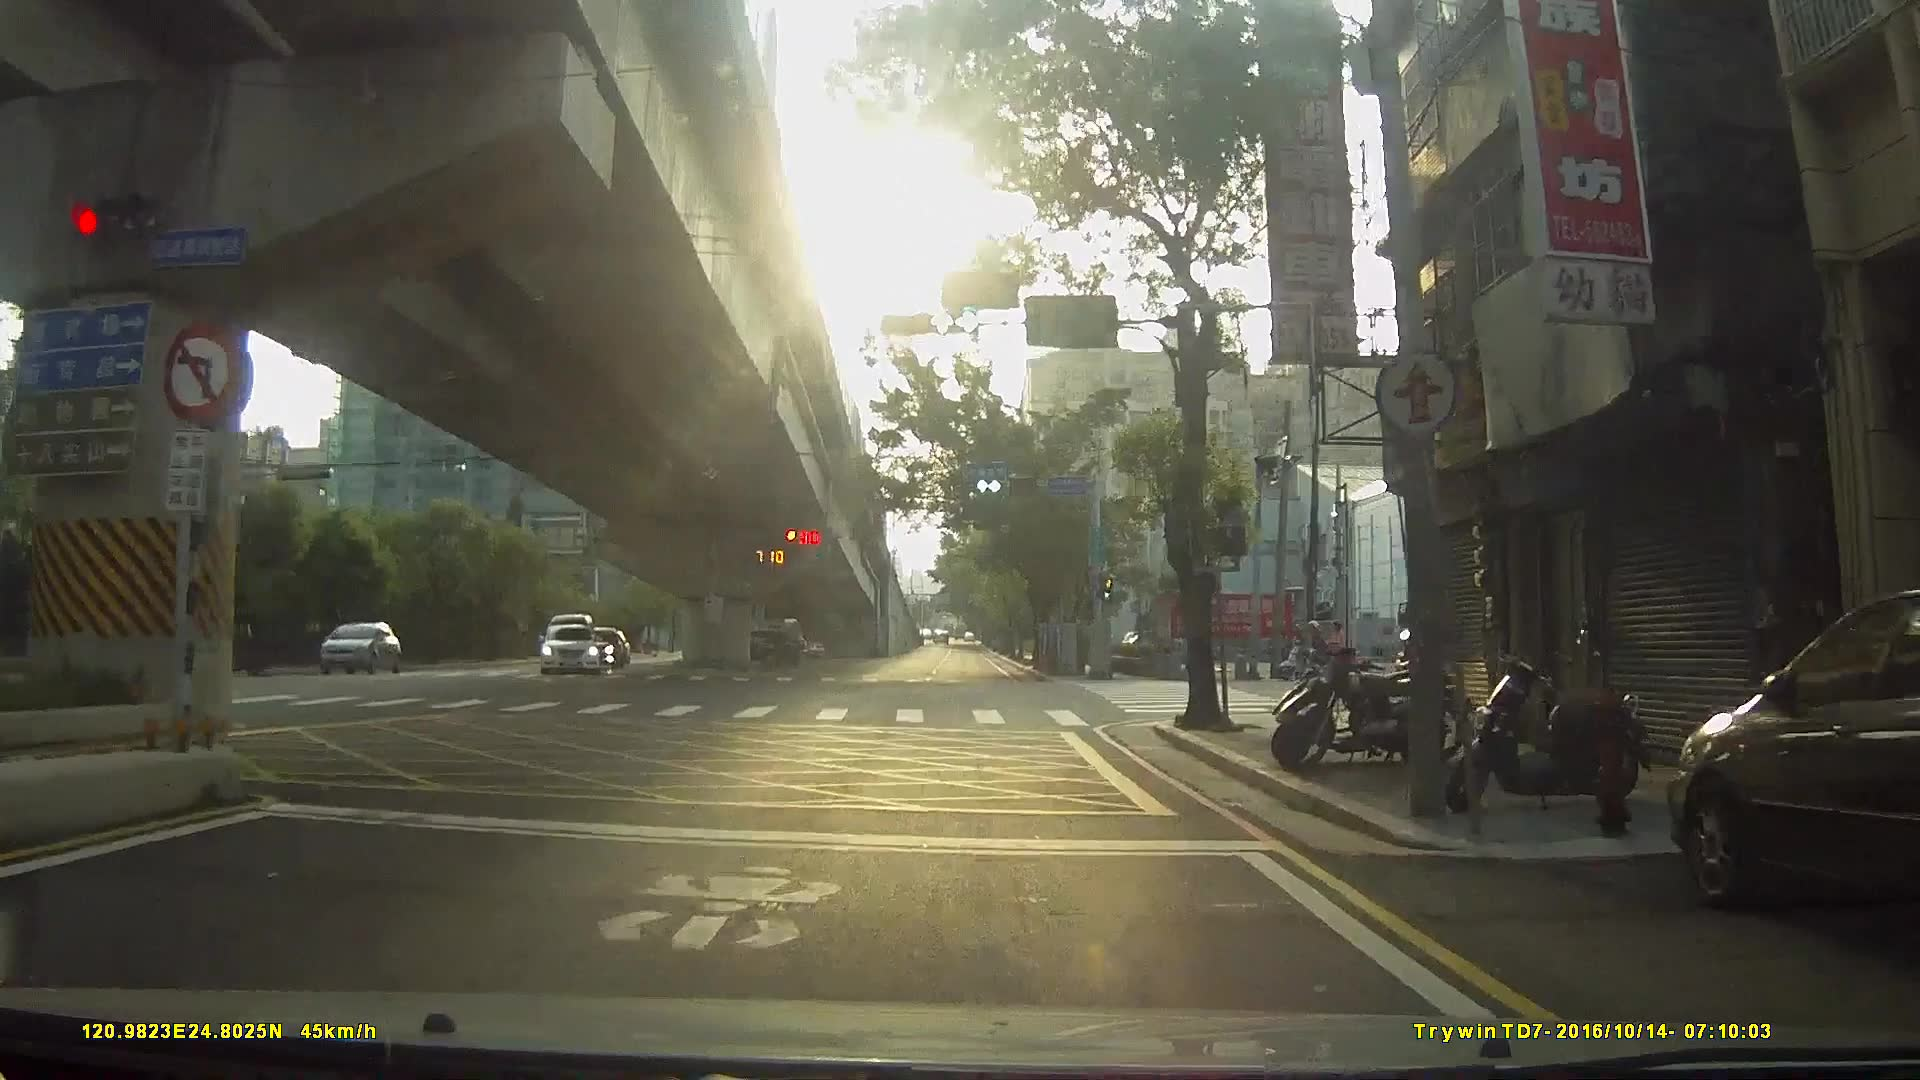vehicle: (1665, 574, 1920, 956), (309, 618, 394, 676), (533, 621, 600, 675), (728, 625, 804, 665)
